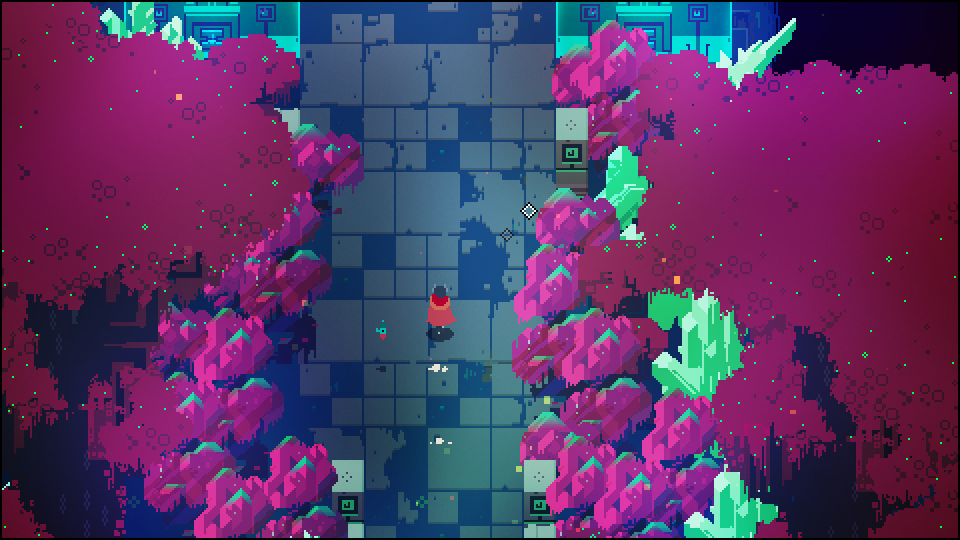player: (426, 286, 454, 336)
